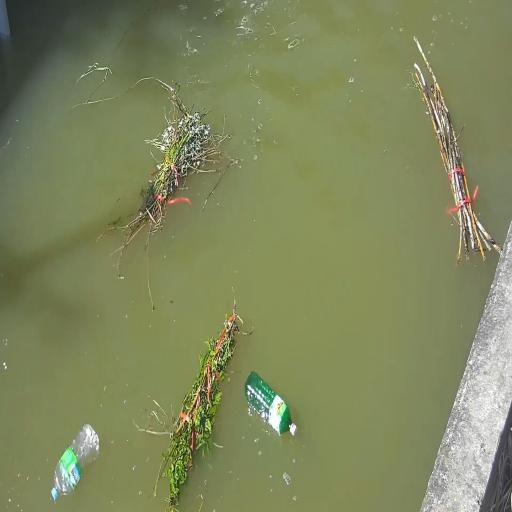plastic: (33, 410, 106, 512), (239, 373, 300, 441)
twig: (122, 72, 228, 270), (408, 43, 500, 258), (140, 313, 232, 512)
